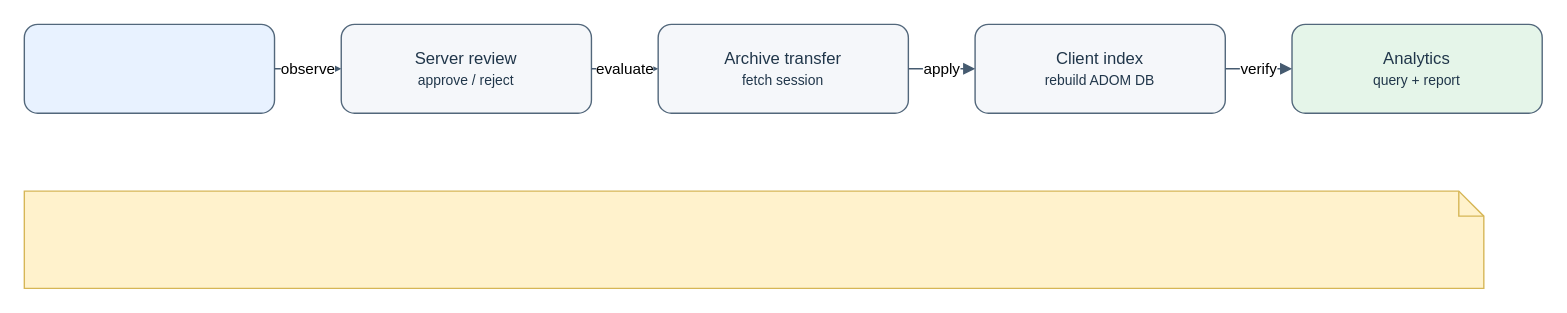
Some shapes in this 1567 by 313 pixel diagram are drawn without their labels. The shapes that lost their labels are listed below. From the top down, each one's centre as x and y in pixels, then its label:
At point (149, 68): "Client profile device + time range".
At point (753, 239): "Transfer Done does not prove indexing/rebuild is complete.".
